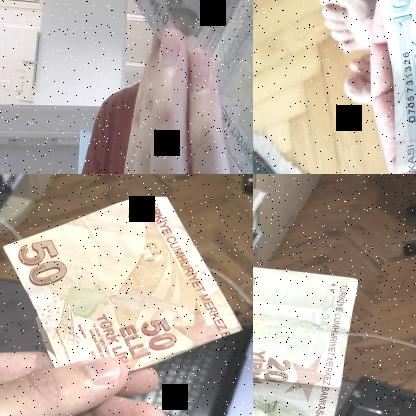5 TL: (87, 0, 252, 173)
